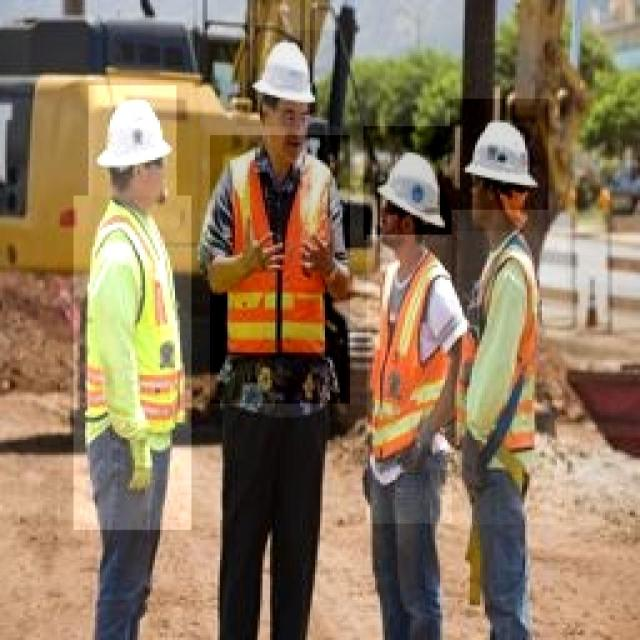Helmet: (450, 99, 548, 210), (364, 126, 452, 240), (236, 30, 340, 126), (88, 86, 176, 196)
Safety Vest: (74, 196, 192, 530), (210, 135, 350, 404), (452, 232, 567, 525), (366, 234, 458, 524)
